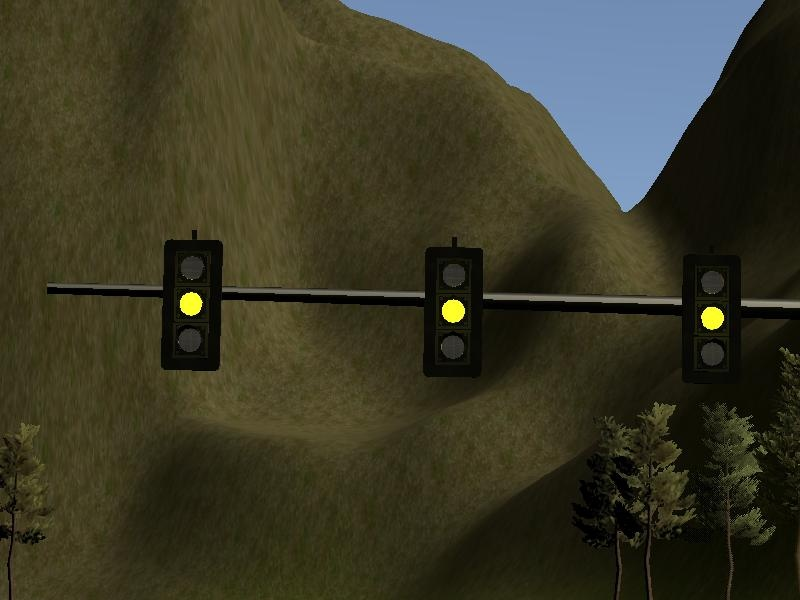YELLOW: (161, 241, 222, 372), (681, 253, 741, 383), (422, 245, 482, 375)
